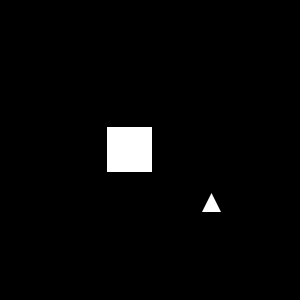circle: (107, 127, 152, 172)
triangle: (202, 193, 221, 212)
